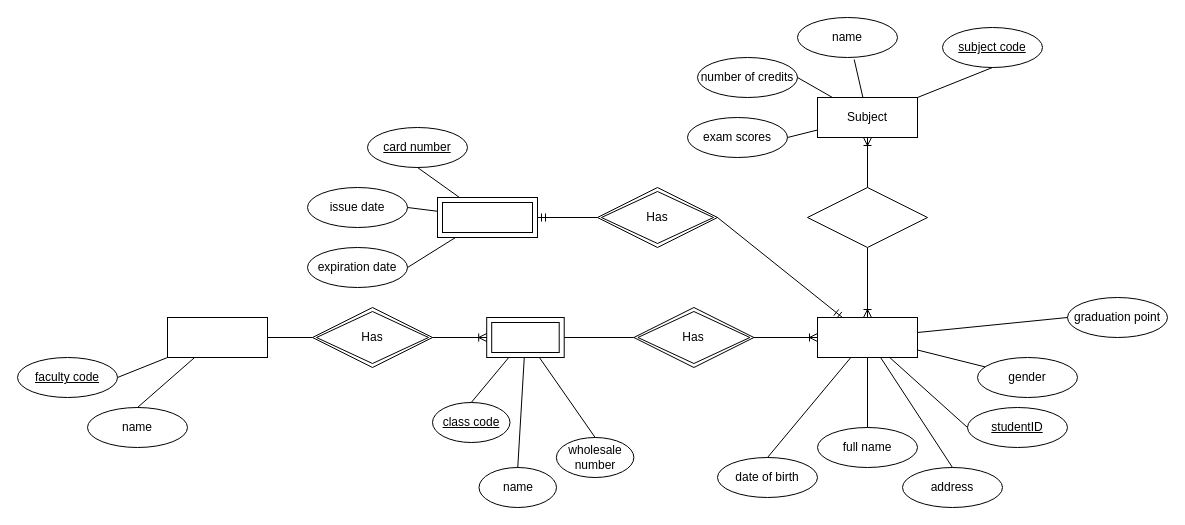
This 1185x525 diagram has some shape labels left out. Each missing label, with the centre of its shape:
"Class" belongs at point 525,337.
"Faculty" belongs at point 217,337.
"Library card" belongs at point 487,217.
"Student" belongs at point 867,337.
"Study" belongs at point 867,217.
